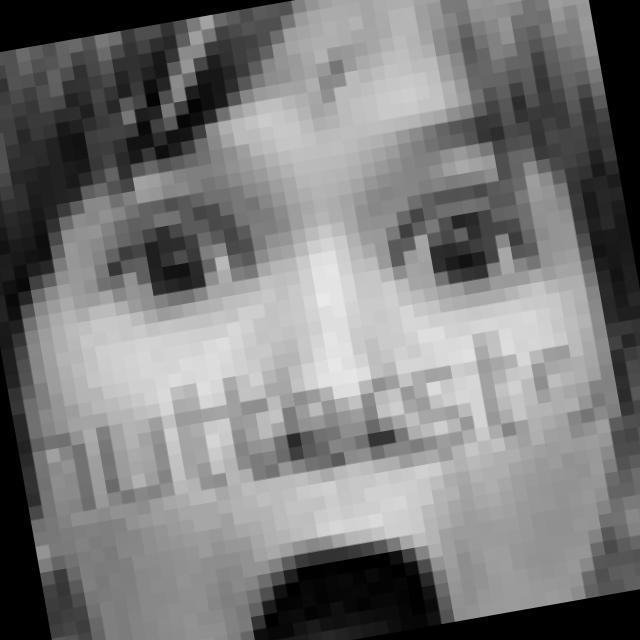surprise: (39, 52, 628, 640)
